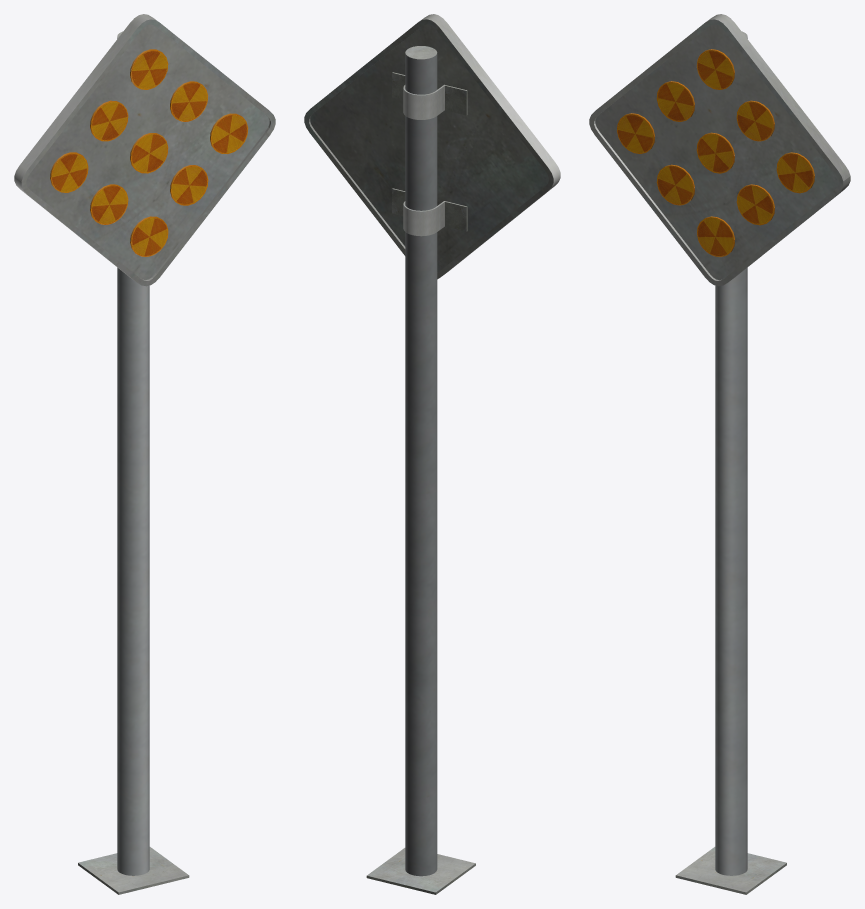
3 views of the same model, side by side, from view 1: azimuth 30°, elevation 25°; view 2: azimuth 150°, elevation 25°; view 3: azimuth 330°, elevation 25° (orthographic).
Visible parts, largest first — view 1: MainBuilding; view 2: MainBuilding; view 3: MainBuilding.
Boxes of the visible parts, <box> form: MainBuilding: <box>14,14,275,894</box>; MainBuilding: <box>304,14,560,894</box>; MainBuilding: <box>589,14,850,894</box>.
Size of the model in its own units: 0.5402 by 1.75 by 0.15.
Materials: 1 (1 with a texture image).
